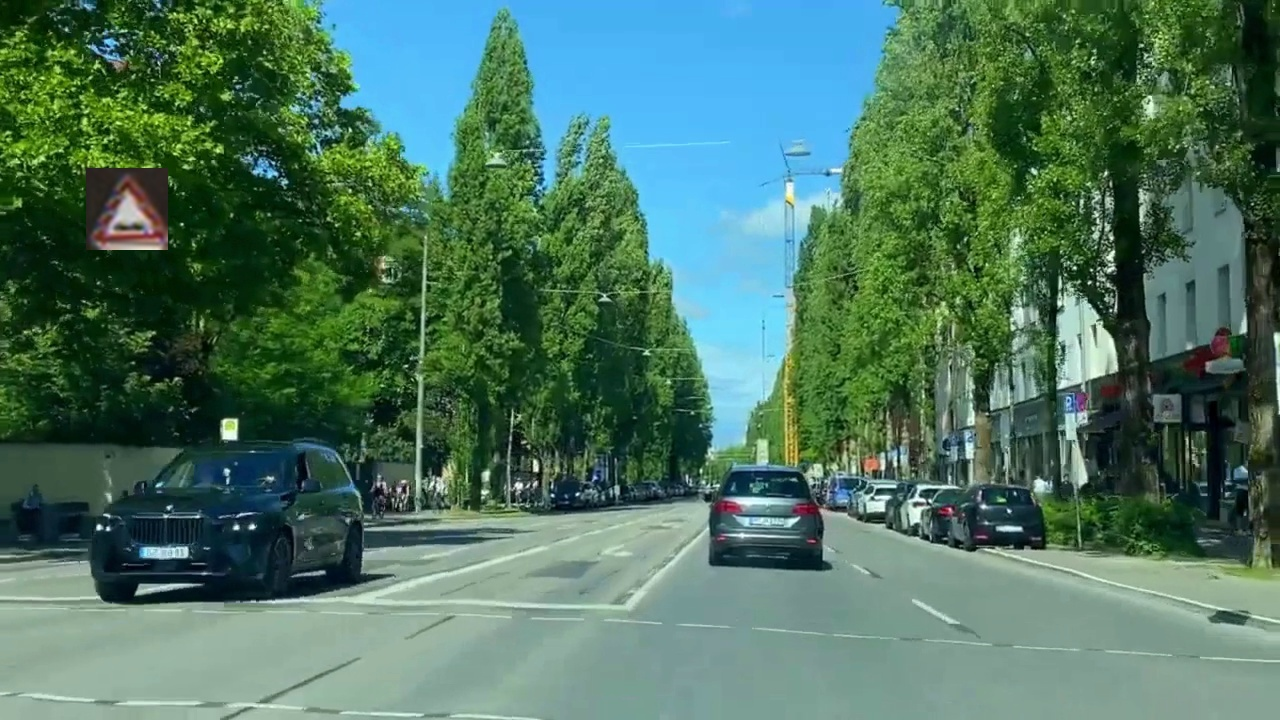Bumpy road: (86, 168, 168, 250)
